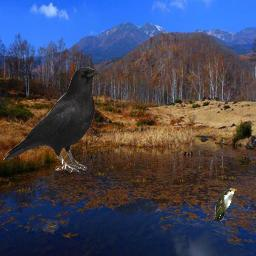Crow: (3, 65, 102, 173)
Cuckoo: (214, 188, 237, 221)
